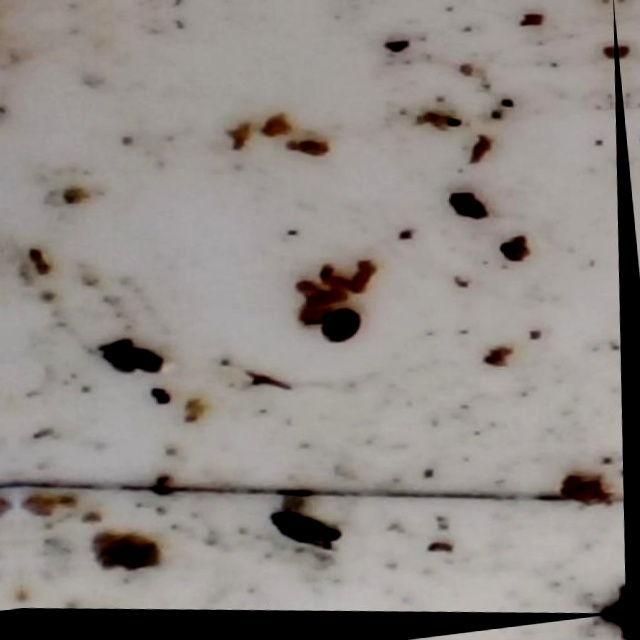varroa: (264, 510, 349, 556), (315, 308, 364, 351), (445, 193, 492, 226)
